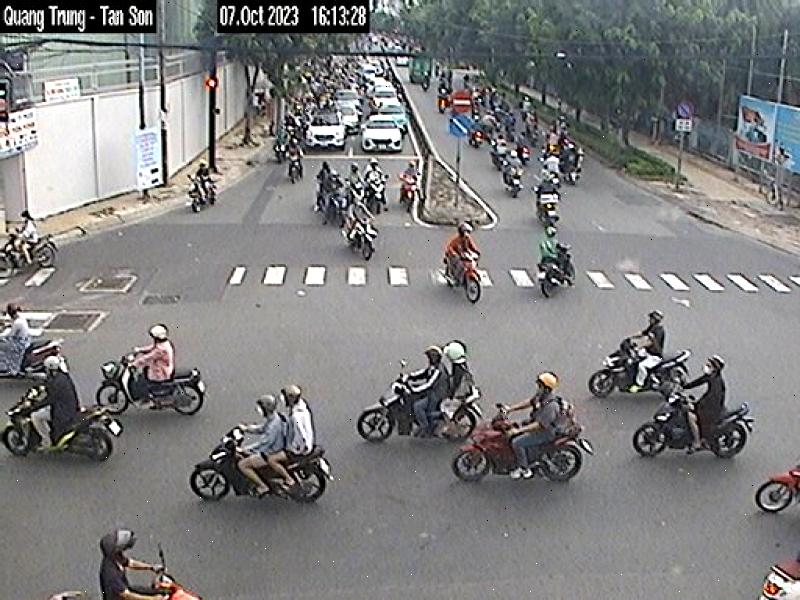motorcycle: (188, 424, 334, 504), (453, 404, 595, 483), (0, 387, 120, 462), (630, 392, 754, 460), (357, 378, 484, 442), (96, 349, 205, 415), (589, 342, 692, 398), (0, 338, 65, 378), (0, 234, 59, 277), (755, 461, 800, 513), (539, 244, 572, 298)
